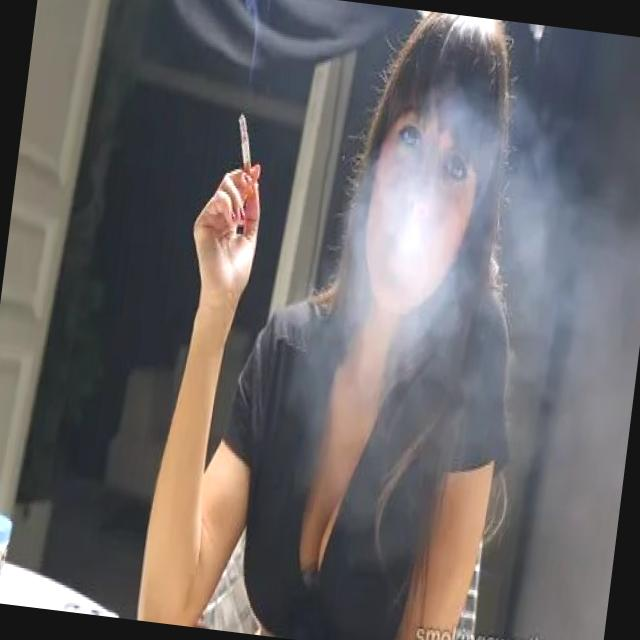smoke: (228, 110, 266, 188)
